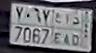0: (23, 13, 33, 43)
6: (32, 5, 41, 46)
7: (12, 5, 22, 44), (41, 8, 49, 44)
A: (61, 12, 71, 49)
D: (70, 14, 81, 47)
E: (53, 13, 63, 47)
